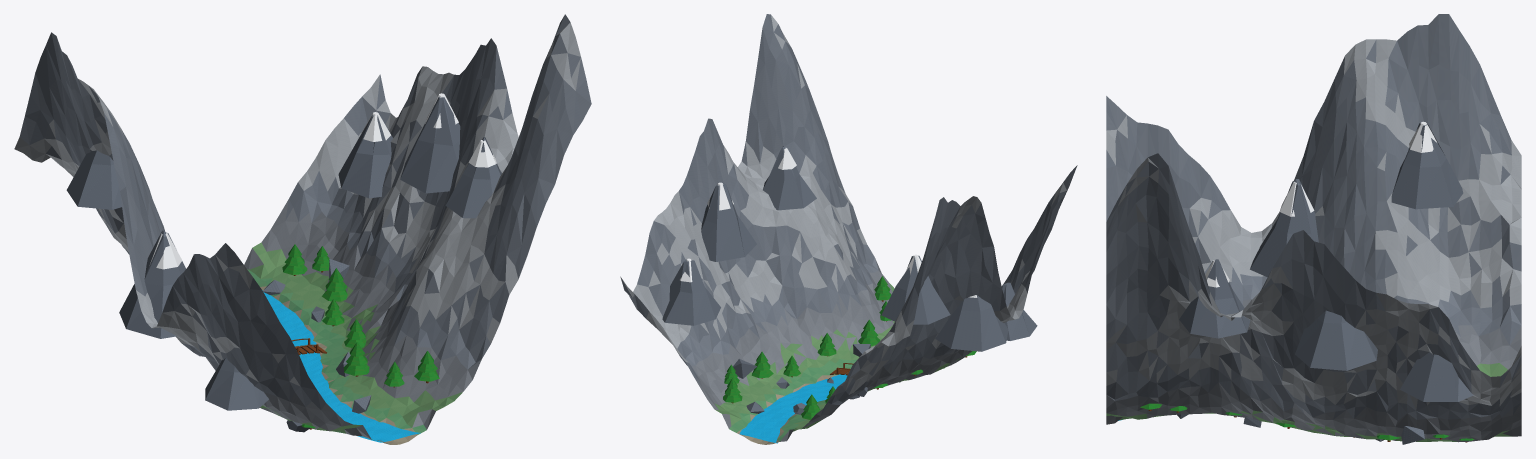
Rendered from valley.glb.
3 views of the same model, side by side, from view 1: azimuth 30°, elevation 25°; view 2: azimuth 150°, elevation 25°; view 3: azimuth 270°, elevation 25° (orthographic). The views are drawn at different scales.
Visible parts, largest first — view 1: valley_terrain, mountain_crag_1, valley_river, mountain_crag_4, mountain_crag_0, mountain_crag_3, mountain_crag_5, mountain_crag_2; view 2: valley_terrain, mountain_crag_4, mountain_crag_1, mountain_crag_0, valley_river, mountain_crag_3, mountain_crag_2, mountain_crag_5; view 3: valley_terrain, mountain_crag_3, mountain_crag_1, mountain_crag_2, mountain_crag_0, mountain_crag_4, mountain_snow_cap_3, mountain_snow_cap_4.
Part boxes in pixels (x1,y1,x2,y2): valley_terrain: (14,14,591,444); mountain_crag_1: (400,97,460,193); valley_river: (262,290,420,442); mountain_crag_4: (119,230,185,338); mountain_crag_0: (338,111,392,198); mountain_crag_3: (66,150,121,209); mountain_crag_5: (205,358,268,410); mountain_crag_2: (445,137,501,218); valley_terrain: (620,14,1077,444); mountain_crag_4: (935,295,1008,351); mountain_crag_1: (701,183,756,261); mountain_crag_0: (662,259,720,325); valley_river: (739,374,847,443); mountain_crag_3: (881,255,950,324); mountain_crag_2: (763,146,816,210); mountain_crag_5: (1002,282,1037,340); valley_terrain: (1106,14,1521,441); mountain_crag_3: (1391,123,1463,209); mountain_crag_1: (1295,310,1377,370); mountain_crag_2: (1179,259,1250,338); mountain_crag_0: (1400,352,1473,401); mountain_crag_4: (1250,179,1318,277); mountain_snow_cap_3: (1409,121,1437,152); mountain_snow_cap_4: (1279,182,1314,216).
Size of the model in its own units: 36.87 by 34.55 by 36.
6 materials, 5 textured.
